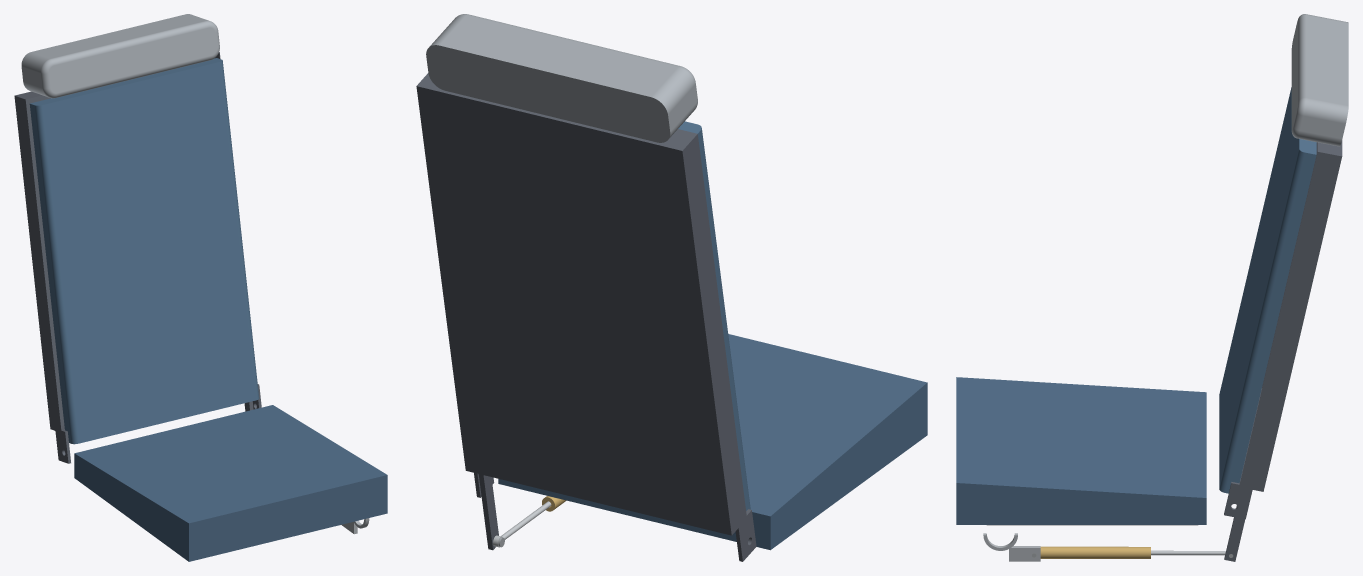
File: step_04.glb
3 renders of one model, left to right at view 1: azimuth 30°, elevation 25°; view 2: azimuth 150°, elevation 25°; view 3: azimuth 270°, elevation 25°, orthographic. The views are drawn at different scales.
Parts seen in each view (by area): view 1: part__back cushion cover, part__cushion cover, part__head rest, part__back shell; view 2: part__back shell, part__cushion cover, part__head rest, part__back cushion cover; view 3: part__cushion cover, part__back cushion cover, part__back shell, part__head rest, part__recline lock, part__recline lock bracket.
Boxes of the visible parts, x1=… form: part__back cushion cover: x1=29, y1=58, x2=259, y2=444; part__cushion cover: x1=74, y1=405, x2=387, y2=561; part__head rest: x1=21, y1=14, x2=219, y2=98; part__back shell: x1=14, y1=52, x2=261, y2=463; part__back shell: x1=416, y1=73, x2=756, y2=561; part__cushion cover: x1=498, y1=334, x2=927, y2=550; part__head rest: x1=426, y1=14, x2=697, y2=142; part__back cushion cover: x1=678, y1=121, x2=750, y2=510; part__cushion cover: x1=956, y1=377, x2=1206, y2=524; part__back cushion cover: x1=1219, y1=87, x2=1316, y2=493; part__back shell: x1=1224, y1=140, x2=1342, y2=561; part__head rest: x1=1291, y1=14, x2=1348, y2=146; part__recline lock: x1=1040, y1=546, x2=1150, y2=558; part__recline lock bracket: x1=983, y1=533, x2=1040, y2=561.
Bounding box in the file's own units: 450 × 903 × 705.
